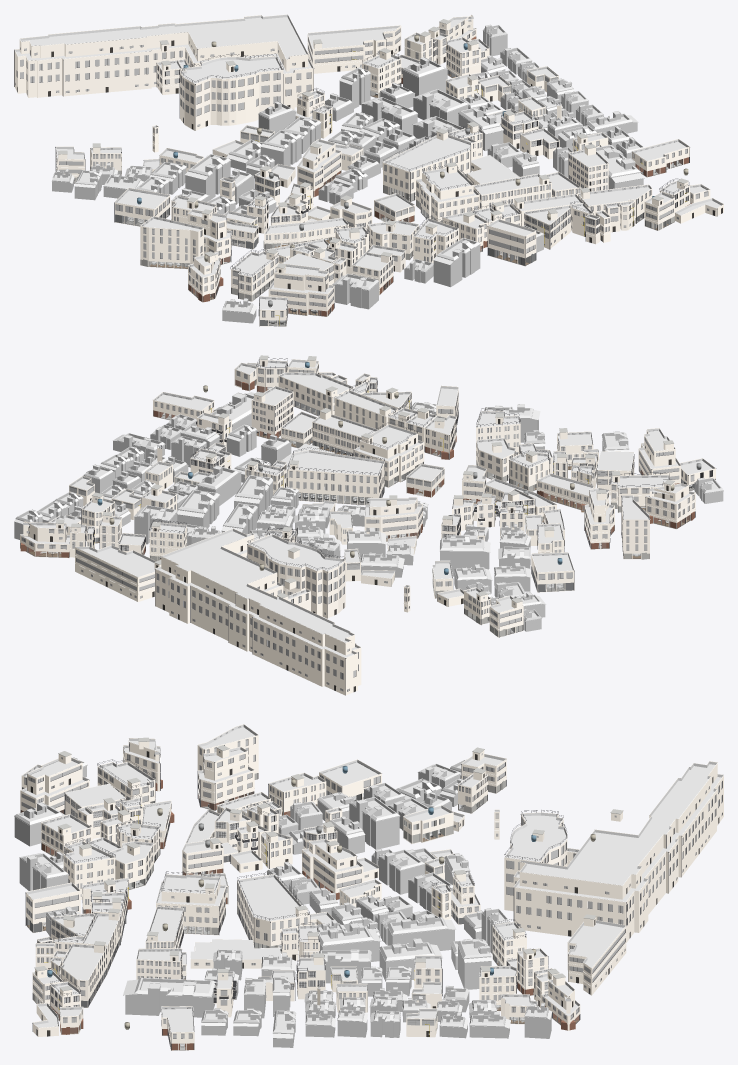
The picture shows the model from 3 angles, top to bottom: view 1: azimuth 30°, elevation 25°; view 2: azimuth 150°, elevation 25°; view 3: azimuth 270°, elevation 25°; orthographic projection. The views are drawn at different scales.
Parts seen in each view (by area): view 1: 서울특별시 성동구 성수동2가 333-17.004, 서울특별시 성동구 성수동2가 333-17.005, 서울특별시 성동구 성수동2가 343-1, 서울특별시 성동구 성수동2가 333-17, 서울특별시 성동구 성수동1가 291, 서울특별시 성동구 성수동2가 351, 서울특별시 성동구 성수동2가 344-5, 서울특별시 성동구 성수동2가 502-1, 서울특별시 성동구 성수동2가 350, 서울특별시 성동구 성수동2가 496-1, 서울특별시 성동구 성수동2가 339-130, 서울특별시 성동구 성수동2가 345-9.001 (+69 smaller); view 2: 서울특별시 성동구 성수동2가 333-17.004, 서울특별시 성동구 성수동2가 343-1, 서울특별시 성동구 성수동2가 333-17.005, 서울특별시 성동구 성수동2가 333-17, 서울특별시 성동구 성수동2가 344-5, 서울특별시 성동구 성수동2가 341-3, 서울특별시 성동구 성수동2가 507-1.001, 서울특별시 성동구 성수동1가 310, 서울특별시 성동구 성수동2가 339-130, 서울특별시 성동구 성수동2가 339-159, 서울특별시 성동구 성수동1가 291, 서울특별시 성동구 성수동2가 333-3.002 (+55 smaller); view 3: 서울특별시 성동구 성수동2가 333-17.004, 서울특별시 성동구 성수동2가 343-1, 서울특별시 성동구 성수동2가 333-17.005, 서울특별시 성동구 성수동2가 333-17, 서울특별시 성동구 성수동2가 344-5, 서울특별시 성동구 성수동2가 339-84, 서울특별시 성동구 성수동1가 289, 서울특별시 성동구 성수동2가 351, 서울특별시 성동구 성수동2가 341-3, 서울특별시 성동구 성수동2가 507-1.001, 서울특별시 성동구 성수동1가 282-2, 서울특별시 성동구 성수동2가 499 (+82 smaller).
Boxes of the visible parts, box(x1,y1,x2,y2) form: 서울특별시 성동구 성수동2가 333-17.004: box(14, 14, 314, 109); 서울특별시 성동구 성수동2가 333-17.005: box(179, 53, 283, 130); 서울특별시 성동구 성수동2가 343-1: box(383, 132, 471, 201); 서울특별시 성동구 성수동2가 333-17: box(307, 25, 401, 73); 서울특별시 성동구 성수동1가 291: box(140, 216, 203, 269); 서울특별시 성동구 성수동2가 351: box(268, 263, 334, 316); 서울특별시 성동구 성수동2가 344-5: box(416, 165, 479, 222); 서울특별시 성동구 성수동2가 502-1: box(487, 219, 536, 266); 서울특별시 성동구 성수동2가 350: box(230, 249, 278, 301); 서울특별시 성동구 성수동2가 496-1: box(433, 238, 480, 287); 서울특별시 성동구 성수동2가 339-130: box(473, 173, 551, 209); 서울특별시 성동구 성수동2가 345-9.001: box(263, 217, 349, 250); 서울특별시 성동구 성수동2가 333-17.004: box(155, 528, 361, 695); 서울특별시 성동구 성수동2가 343-1: box(287, 447, 384, 505); 서울특별시 성동구 성수동2가 333-17.005: box(247, 531, 345, 618); 서울특별시 성동구 성수동2가 333-17: box(75, 545, 155, 601); 서울특별시 성동구 성수동2가 344-5: box(353, 422, 424, 487); 서울특별시 성동구 성수동2가 341-3: box(364, 497, 422, 541); 서울특별시 성동구 성수동2가 507-1.001: box(278, 372, 352, 416); 서울특별시 성동구 성수동1가 310: box(645, 483, 695, 529); 서울특별시 성동구 성수동2가 339-130: box(312, 414, 377, 456); 서울특별시 성동구 성수동2가 339-159: box(251, 386, 293, 439); 서울특별시 성동구 성수동1가 291: box(621, 495, 650, 559); 서울특별시 성동구 성수동2가 333-3.002: box(20, 521, 69, 558); 서울특별시 성동구 성수동2가 333-17.004: box(513, 761, 723, 942); 서울특별시 성동구 성수동2가 343-1: box(237, 871, 310, 953); 서울특별시 성동구 성수동2가 333-17.005: box(504, 810, 567, 911); 서울특별시 성동구 성수동2가 333-17: box(567, 920, 626, 995); 서울특별시 성동구 성수동2가 344-5: box(156, 871, 226, 935); 서울특별시 성동구 성수동2가 339-84: box(123, 977, 216, 1017); 서울특별시 성동구 성수동1가 289: box(197, 746, 254, 810); 서울특별시 성동구 성수동2가 351: box(20, 757, 89, 814); 서울특별시 성동구 성수동2가 341-3: box(302, 839, 363, 900); 서울특별시 성동구 성수동2가 507-1.001: box(60, 943, 107, 1007); 서울특별시 성동구 성수동1가 282-2: box(349, 797, 400, 849); 서울특별시 성동구 성수동2가 499: box(63, 838, 115, 899).
Bounding box in the file's own units: 217 × 21.82 × 230.
